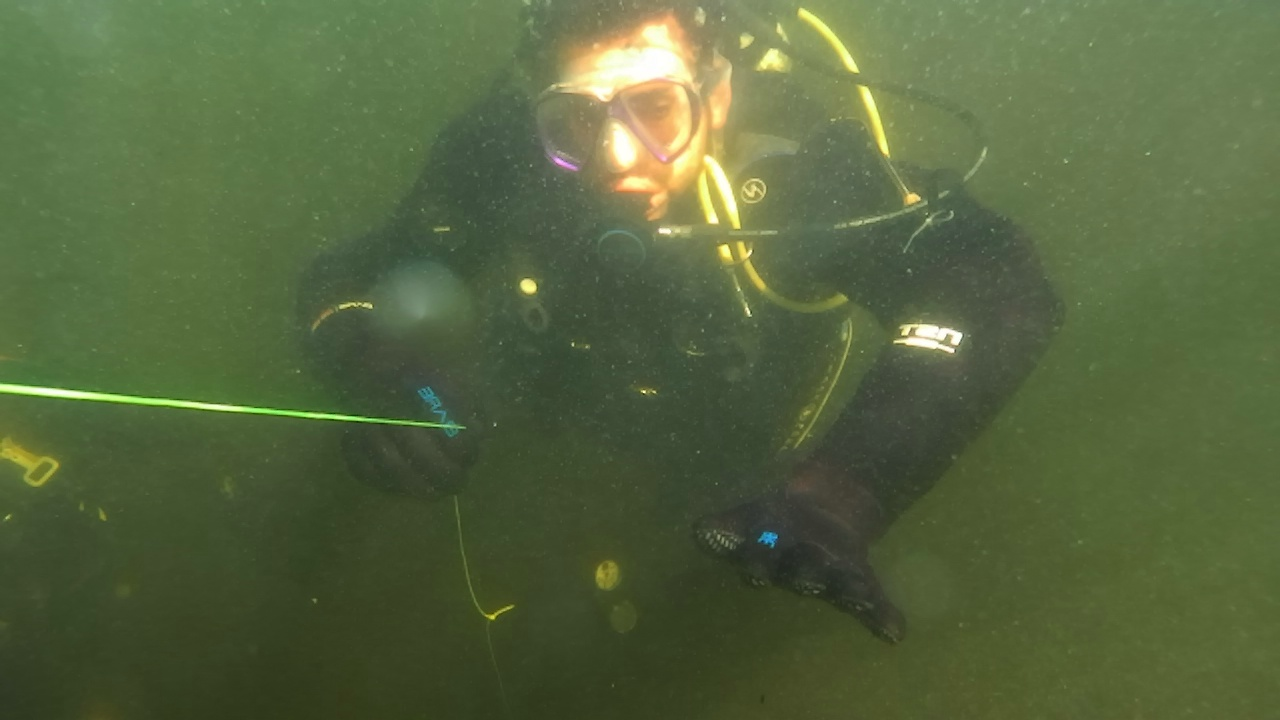Diver: (276, 8, 1074, 656)
Hand: (656, 462, 944, 664), (296, 324, 516, 524)
Head: (494, 6, 772, 306)
